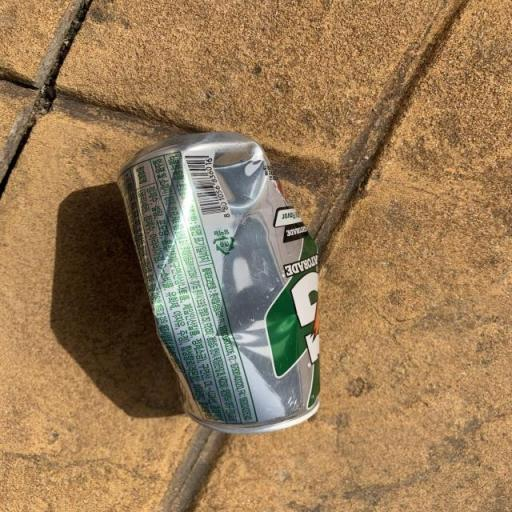metal: (96, 116, 338, 449)
